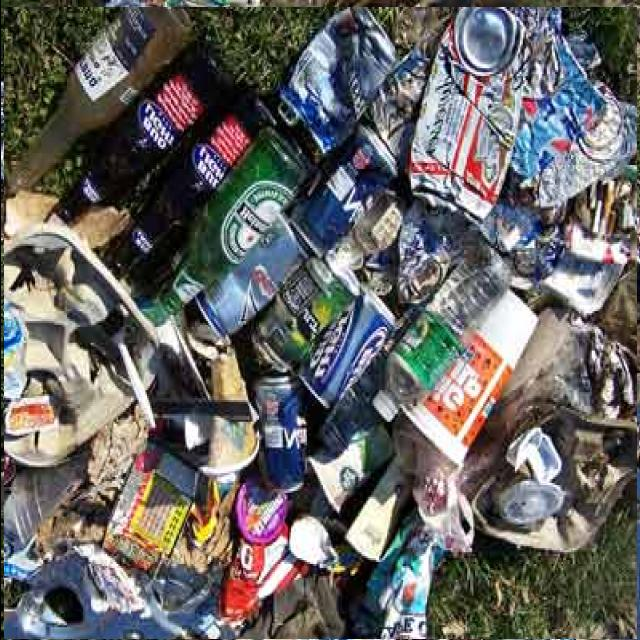garbage: (3, 6, 636, 640)
